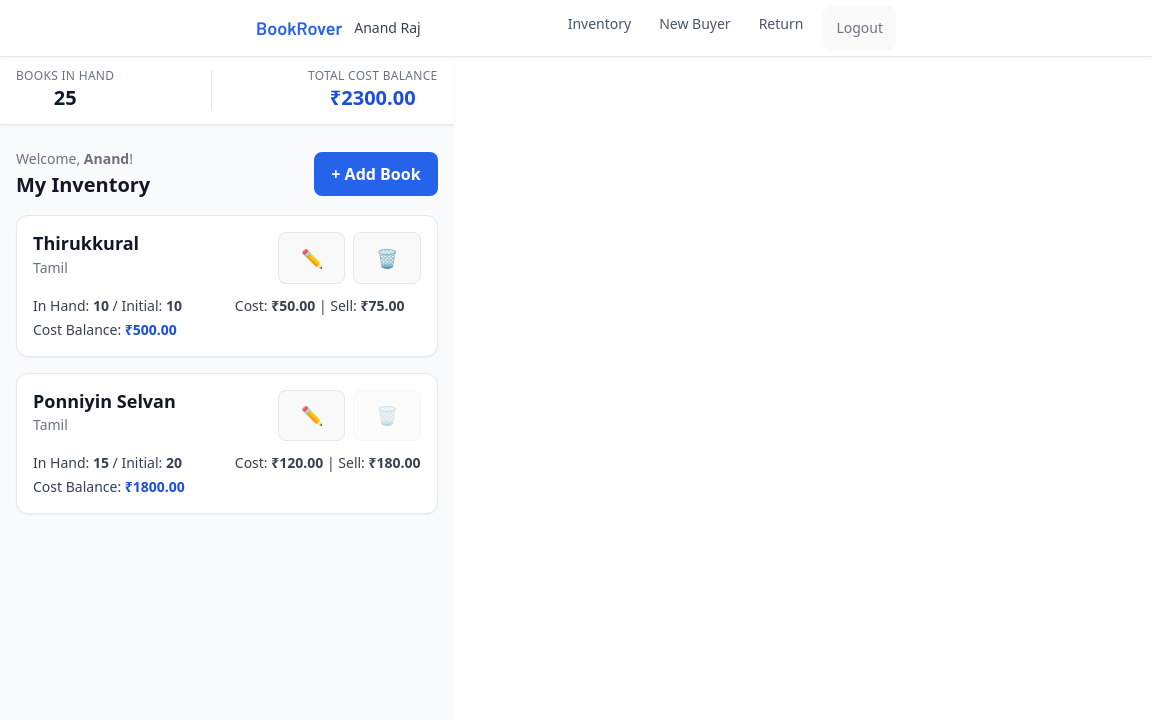
Scenario: InventoryPage › closes the dialog when Cancel is clicked
The width and height of the screenshot is (1152, 720).
Click the button named "Remove Thirukkural".
click(387, 258)  # box [353, 232, 421, 284]
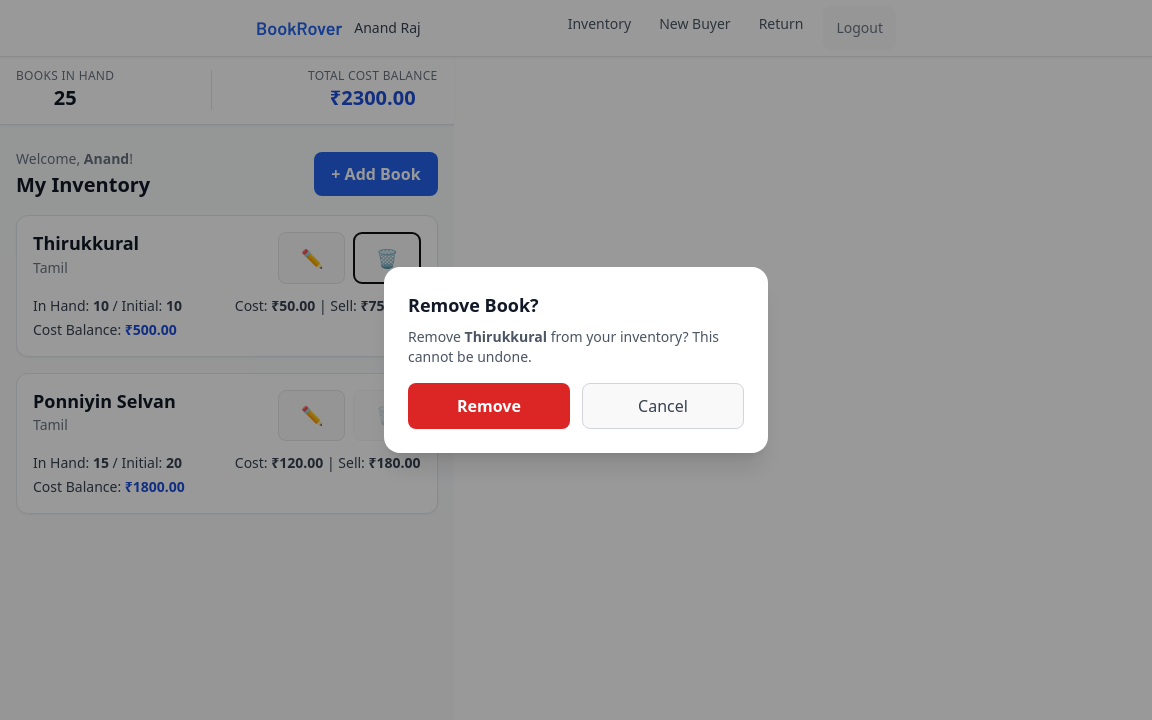
Result: the dialog is shown
Click the button "Cancel".
click(663, 406)  # box [582, 383, 744, 429]
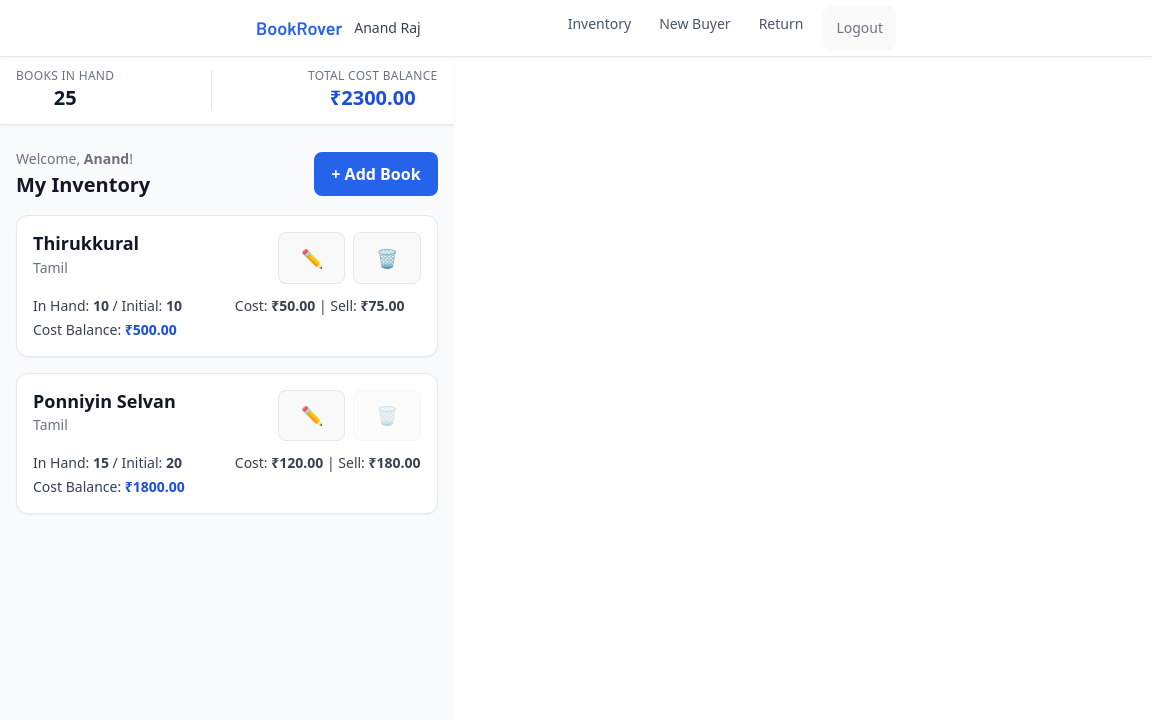
Result: the dialog is gone
